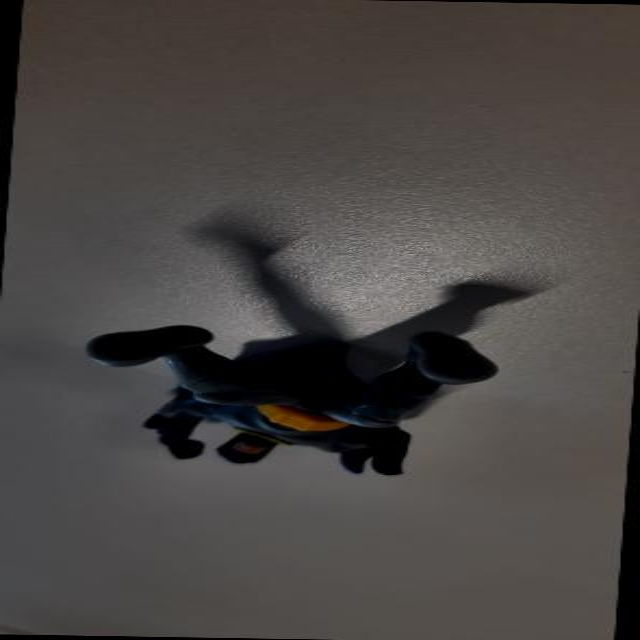Batman: (80, 324, 505, 483)
